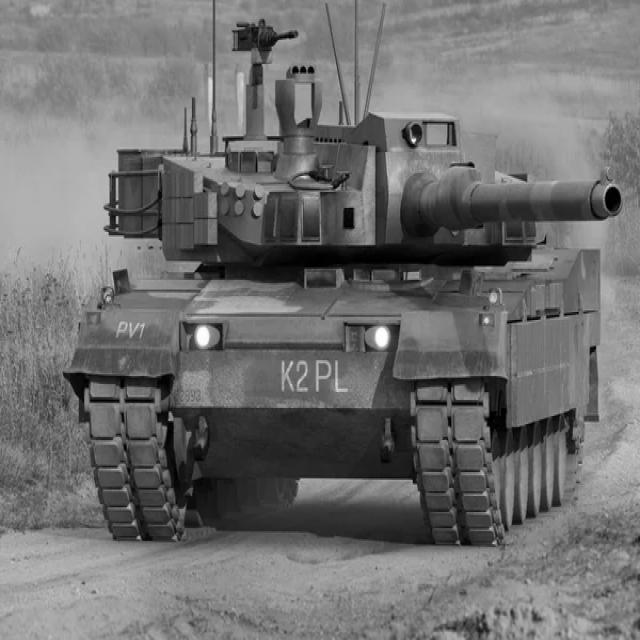Tank: (69, 31, 640, 568)
